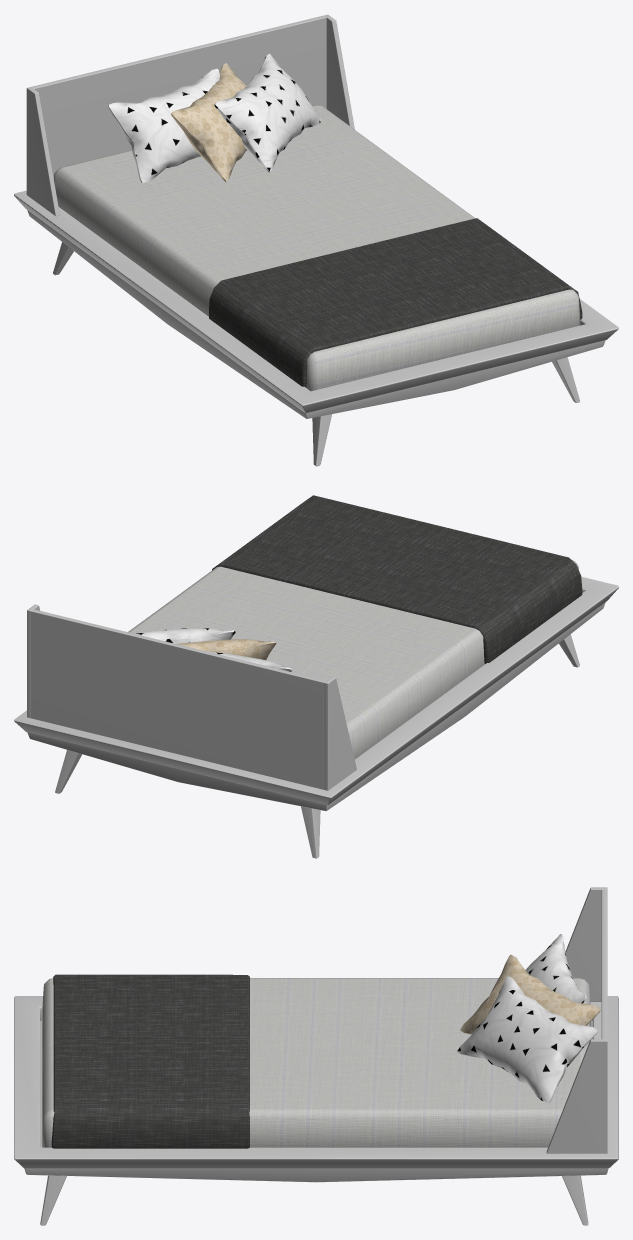
Rendered from Bed.fbx.
3 views of the same model, one above another, from view 1: azimuth 30°, elevation 25°; view 2: azimuth 150°, elevation 25°; view 3: azimuth 270°, elevation 25° (orthographic). The views are drawn at different scales.
Parts seen in each view (by area): view 1: polySurface2; view 2: polySurface2; view 3: polySurface2.
Part boxes in pixels (box(x1,y1,x2,y2)): polySurface2: box(14, 14, 618, 466); polySurface2: box(14, 495, 618, 858); polySurface2: box(14, 887, 618, 1225).
Size of the model in its own units: 1.39 by 0.7751 by 2.19.
